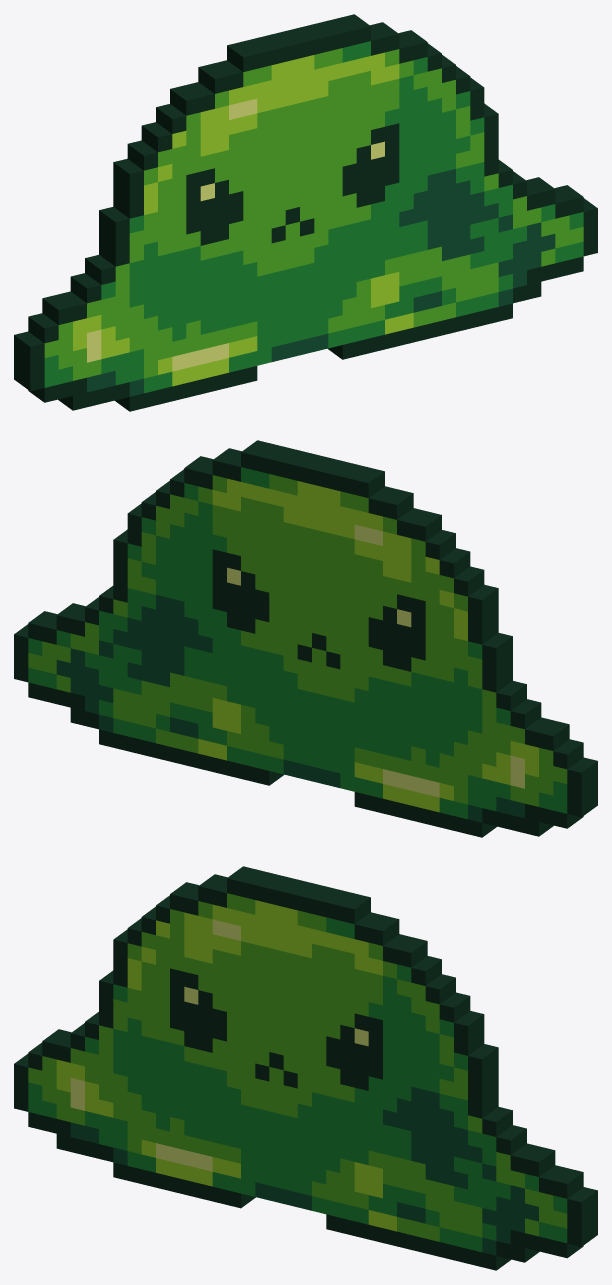
File: Slime_Attack_01.obj
3 views of the same model, one above another, from view 1: azimuth 30°, elevation 25°; view 2: azimuth 150°, elevation 25°; view 3: azimuth 330°, elevation 25° (orthographic).
Size of the model in its own units: 4 by 2.2 by 0.2.
Materials: 1 (1 with a texture image).
